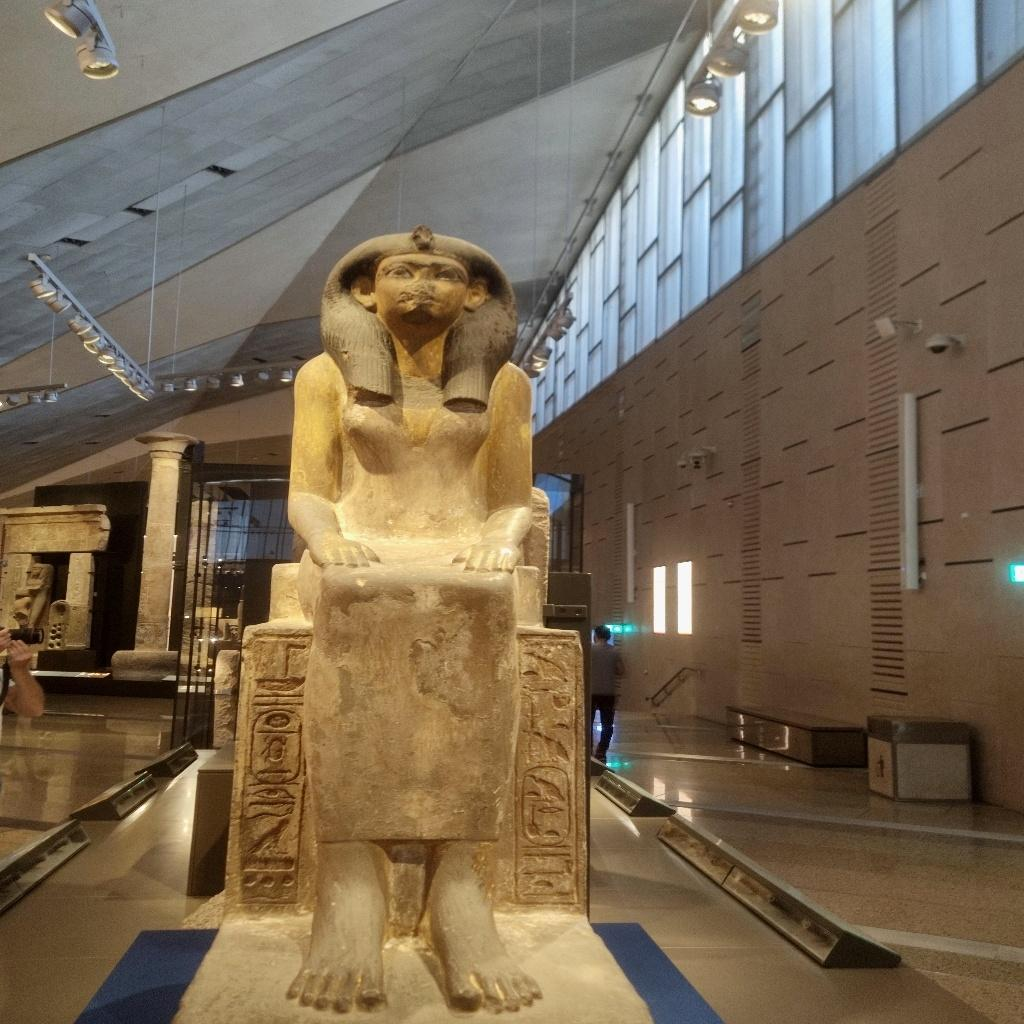Statue of Queen Metnoforet: (270, 220, 573, 1018)
